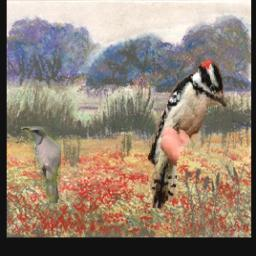Cuckoo: (21, 127, 61, 204)
Woodpecker: (148, 58, 227, 213)
